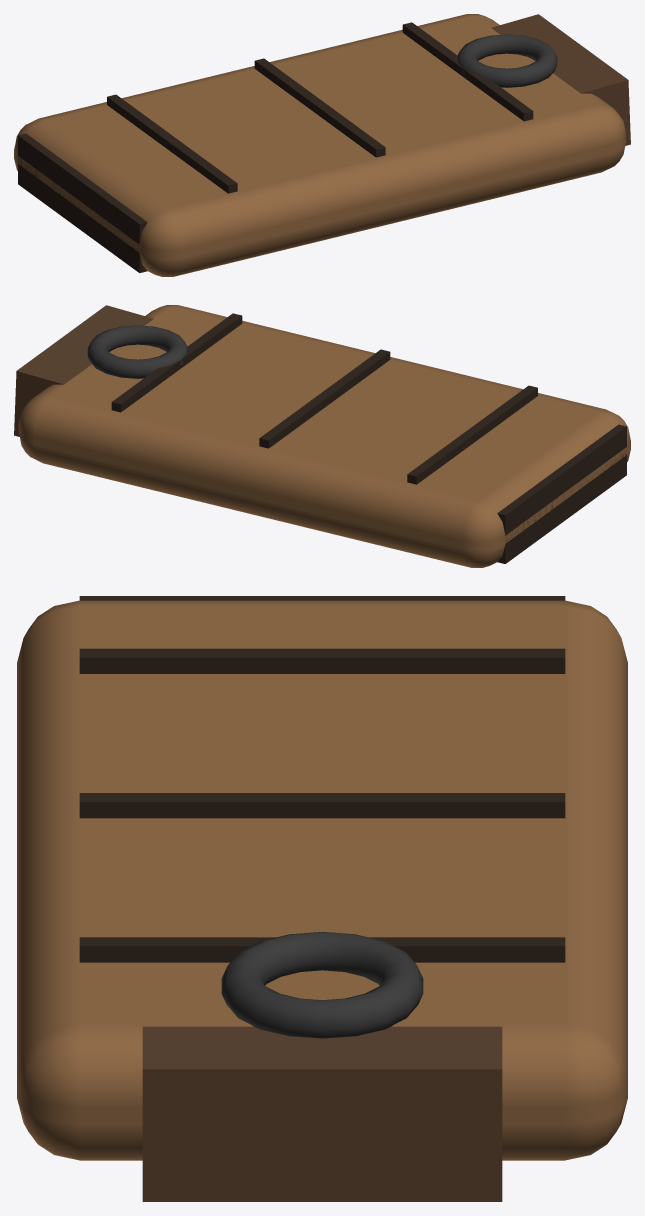
File: sk_cutting_board.glb
3 views of the same model, one above another, from view 1: azimuth 30°, elevation 25°; view 2: azimuth 150°, elevation 25°; view 3: azimuth 270°, elevation 25° (orthographic). The views are drawn at different scales.
Visible parts, largest first — view 1: wood, object 2; view 2: wood, object 2; view 3: wood, object 2.
Boxes of the visible parts, x1,y1,x2,y2 form: wood: (14, 14, 630, 276); object 2: (457, 34, 557, 87); wood: (14, 305, 630, 567); object 2: (87, 325, 187, 378); wood: (17, 596, 627, 1201); object 2: (221, 932, 423, 1038).
Bounding box in the file's own units: 0.6516 × 0.101 × 0.34.
